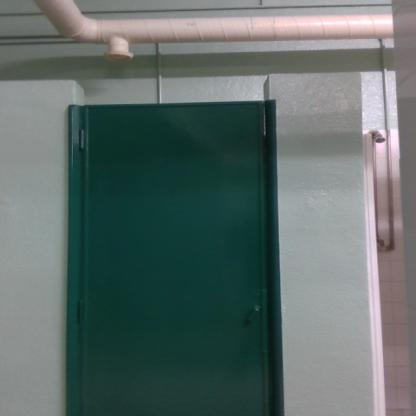closed: (44, 76, 295, 405)
